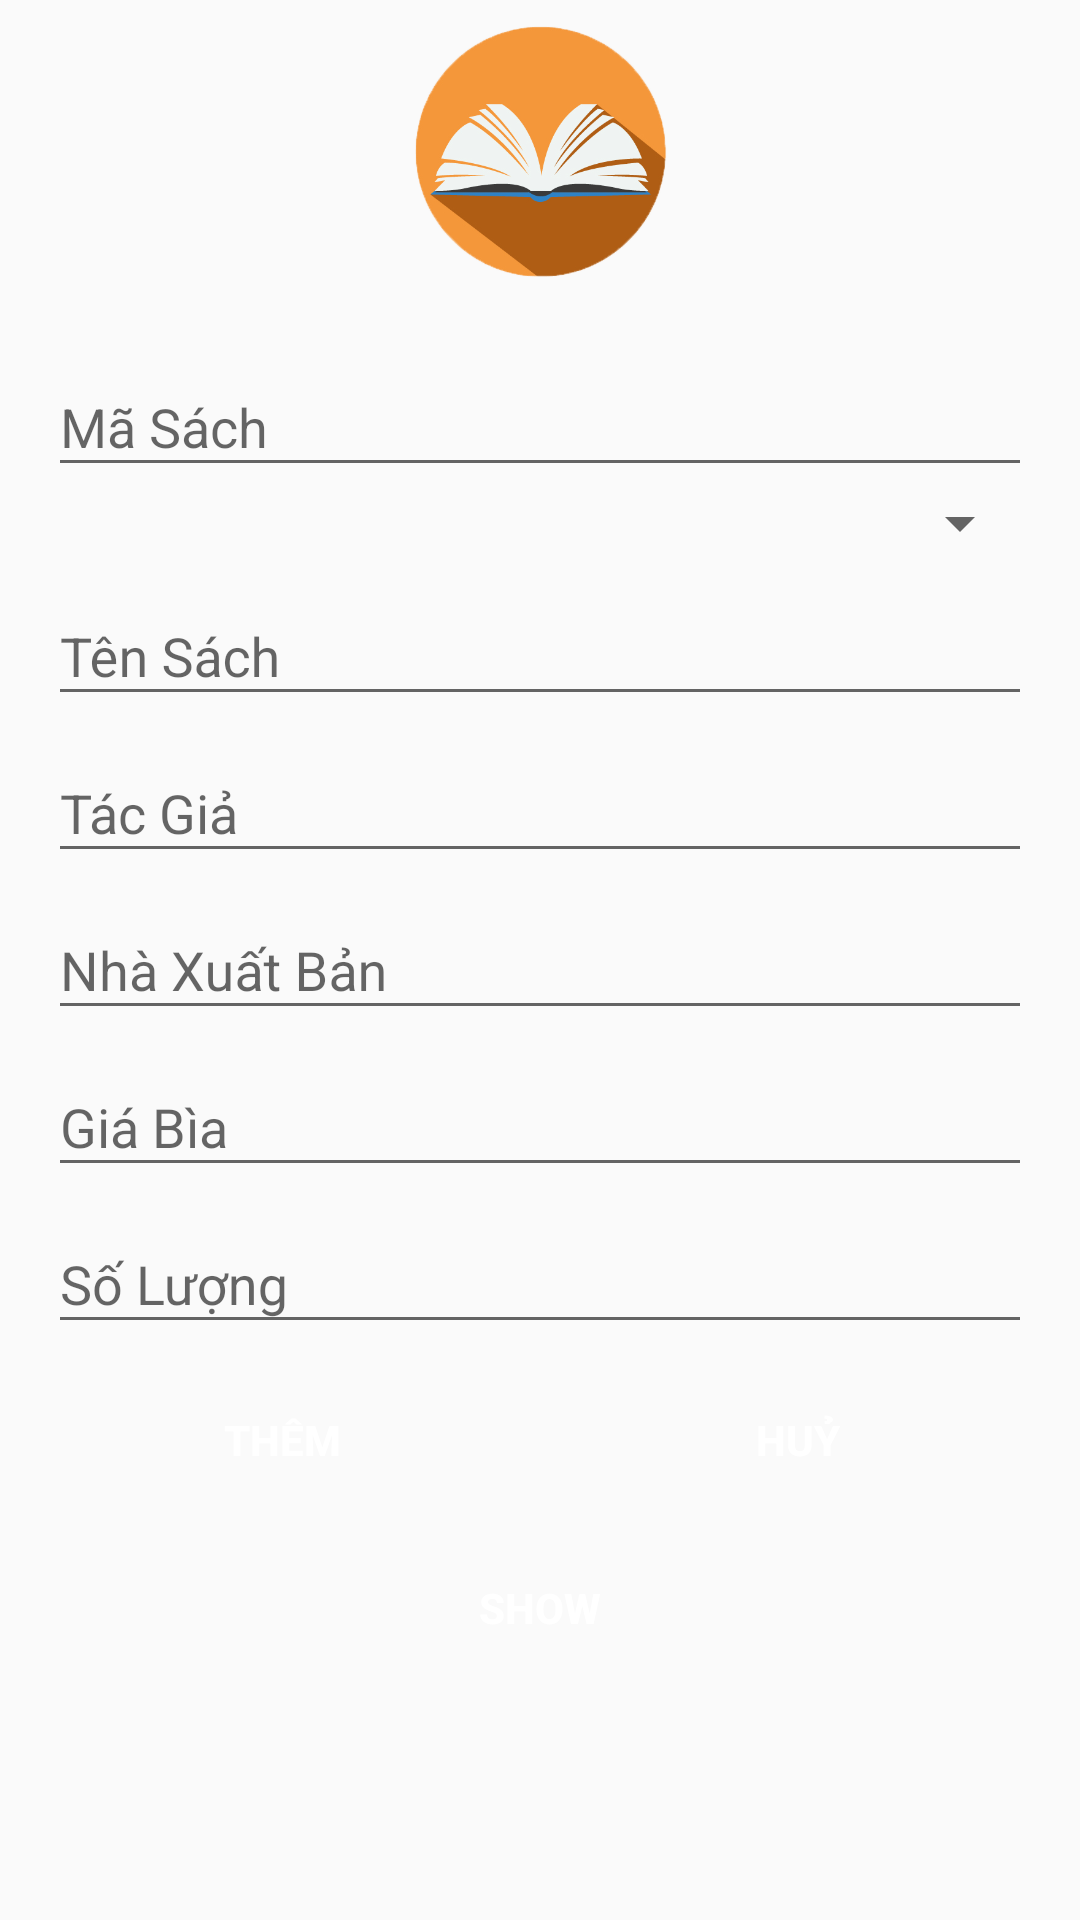

Icons on this 1080×1920 Android screen, each with its box as (x1, y1, x2, y2):
book: (415, 27, 666, 277)
